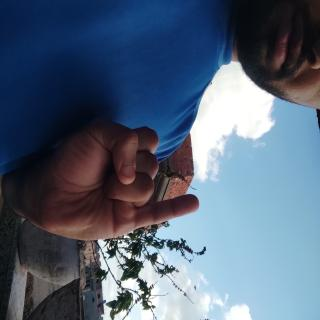MEEM: (87, 155, 190, 320)
